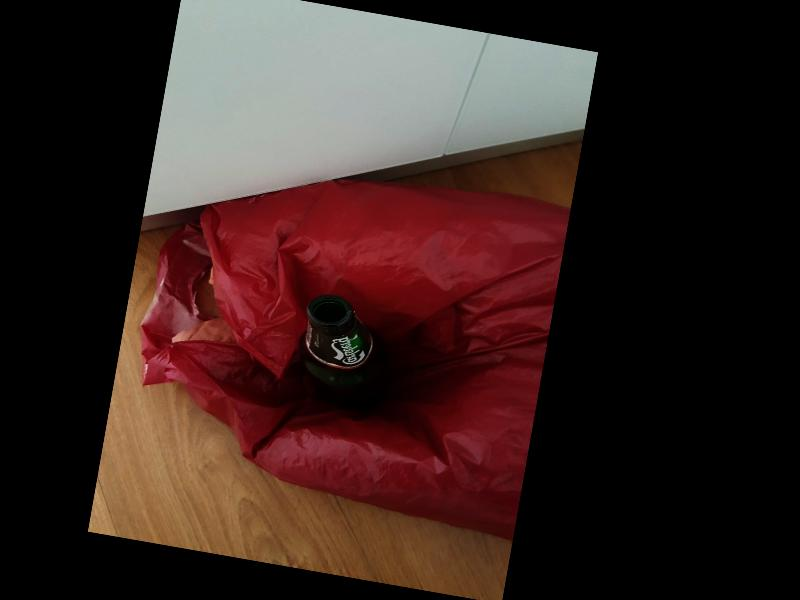Beer: (290, 292, 397, 415)
